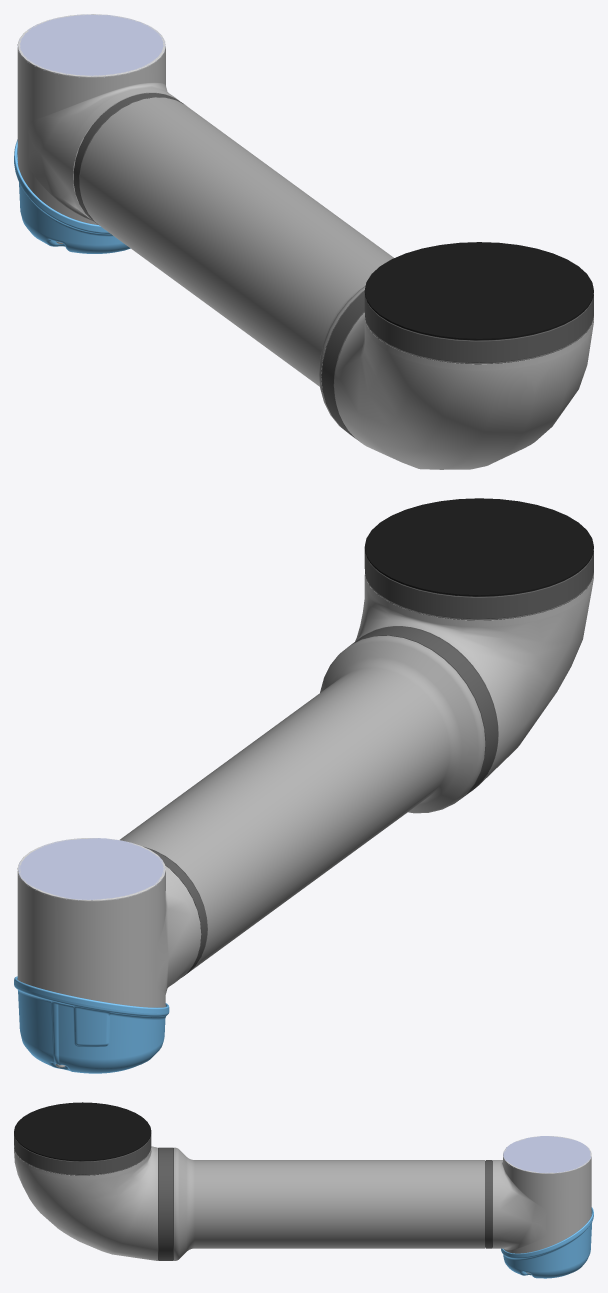
Rendered from upperarm.dae.
3 views of the same model, one above another, from view 1: azimuth 30°, elevation 25°; view 2: azimuth 150°, elevation 25°; view 3: azimuth 270°, elevation 25° (orthographic). The views are drawn at different scales.
Parts seen in each view (by area): view 1: NAUO4; view 2: NAUO4; view 3: NAUO4.
Part boxes in pixels (x1,y1,x2,y2): NAUO4: (14,14,593,469); NAUO4: (14,498,593,1073); NAUO4: (14,1102,593,1278).
Bounding box in the file's own units: 0.116 × 0.4896 × 0.1238.
